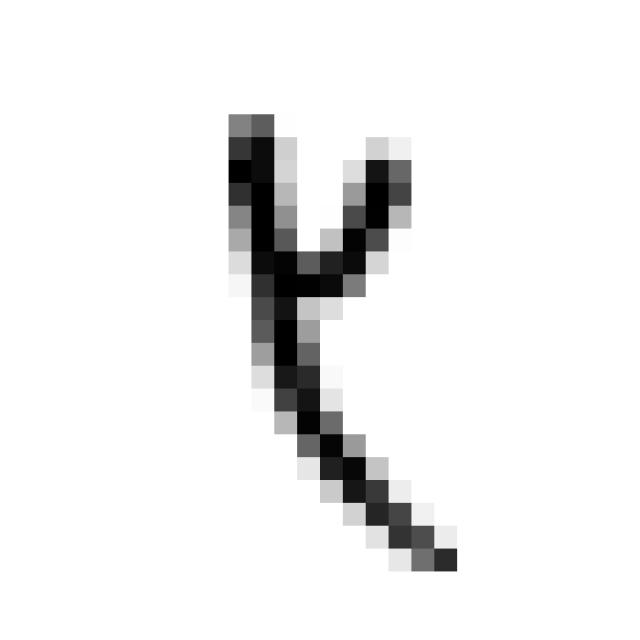3 -three-: (199, 91, 478, 589)
